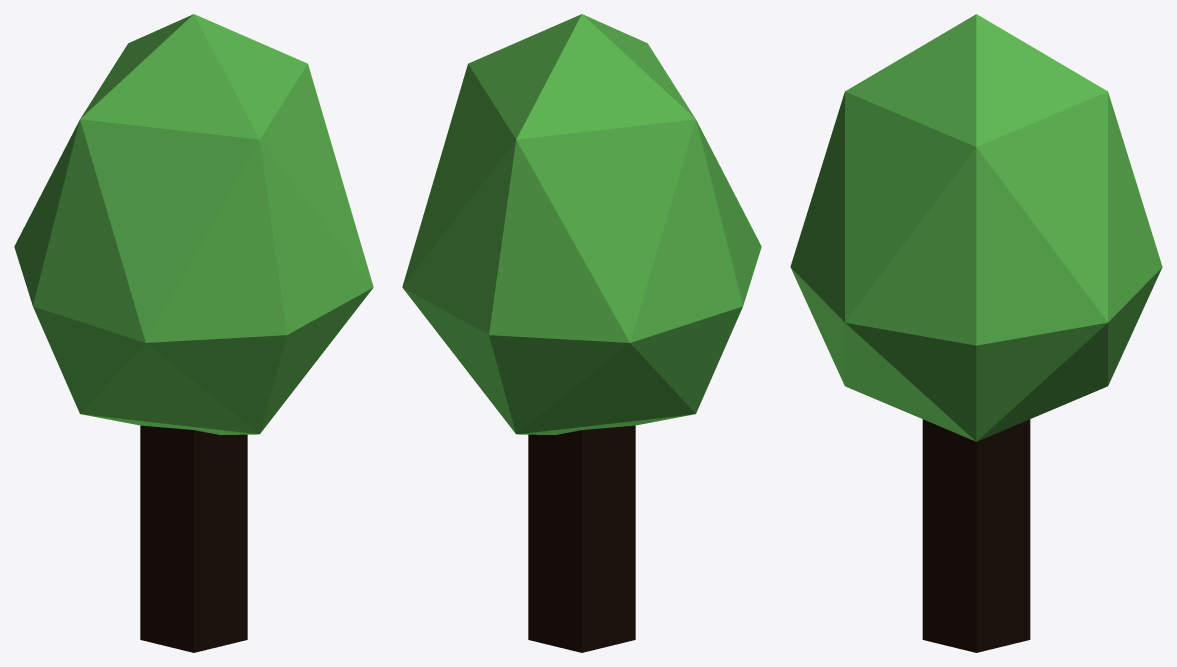
Rendered from Plants-Tree-Pointy-Small.FBX.
The picture shows the model from 3 angles, left to right: view 1: azimuth 30°, elevation 25°; view 2: azimuth 150°, elevation 25°; view 3: azimuth 270°, elevation 25°; orthographic projection.
Parts seen in each view (by area): view 1: Plants-Tree-Pointy-Small; view 2: Plants-Tree-Pointy-Small; view 3: Plants-Tree-Pointy-Small.
Boxes of the visible parts, x1,y1,x2,y2 form: Plants-Tree-Pointy-Small: [14, 14, 373, 652]; Plants-Tree-Pointy-Small: [402, 14, 761, 652]; Plants-Tree-Pointy-Small: [790, 14, 1162, 652].
Size of the model in its own units: 30 by 30 by 54.5.
